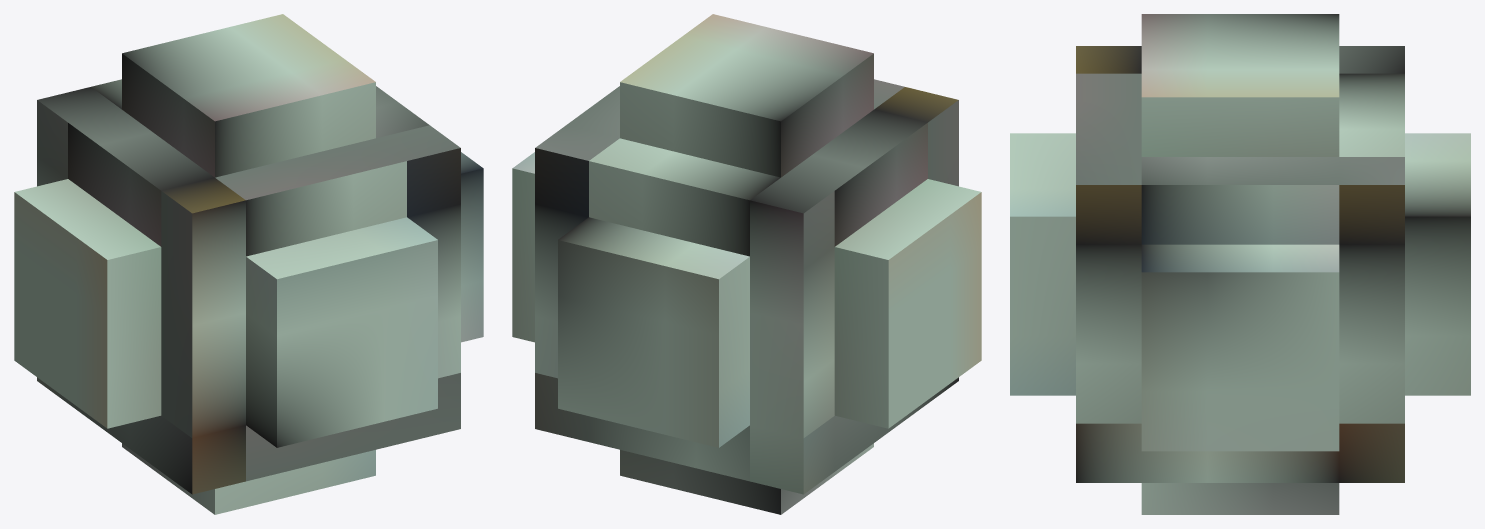
File: BallSoccer_00.obj
3 renders of one model, left to right at view 1: azimuth 30°, elevation 25°; view 2: azimuth 150°, elevation 25°; view 3: azimuth 270°, elevation 25°, orthographic. The views are drawn at different scales.
Visible parts, largest first — view 1: BallSoccer_00; view 2: BallSoccer_00; view 3: BallSoccer_00.
Part boxes in pixels (bbox=[...]): BallSoccer_00: bbox=[14, 14, 483, 514]; BallSoccer_00: bbox=[512, 14, 981, 514]; BallSoccer_00: bbox=[1010, 14, 1470, 514].
Bounding box in the file's own units: 0.35 × 0.35 × 0.35.
